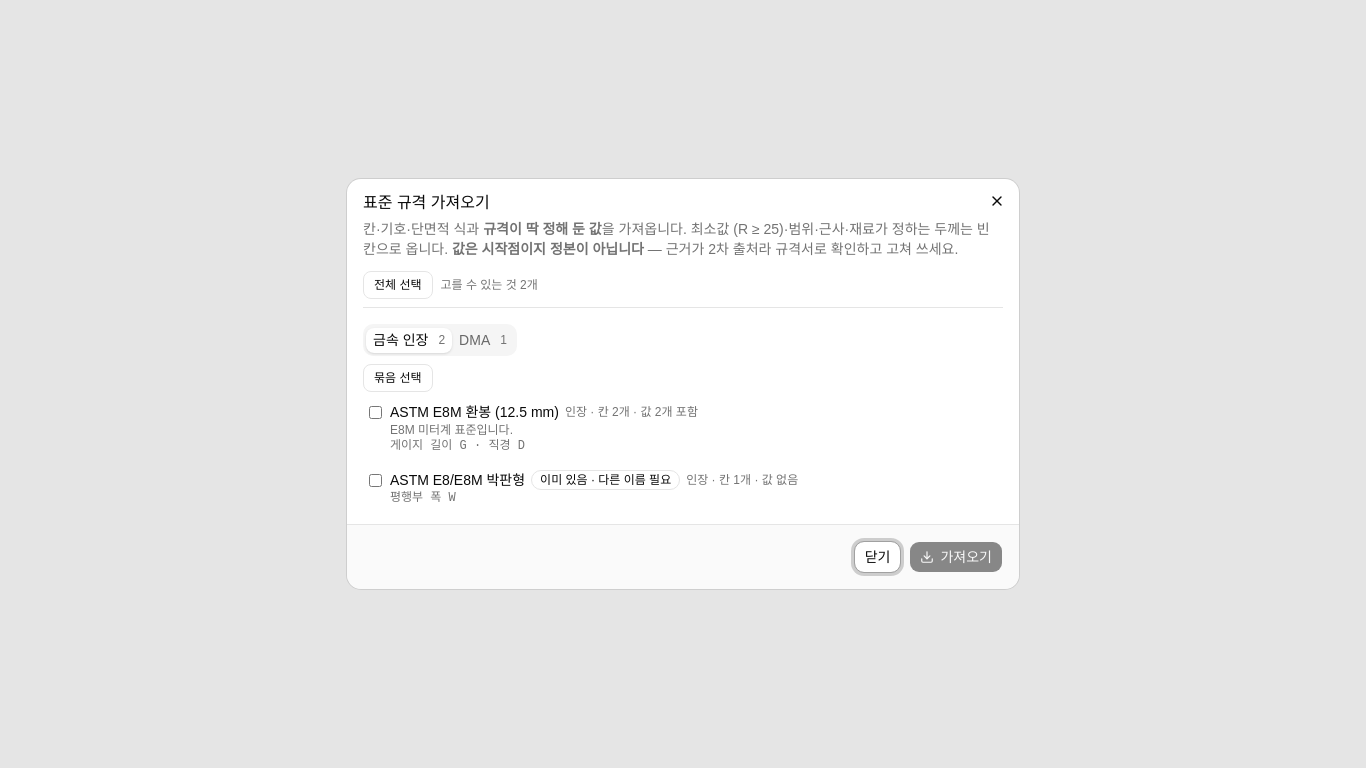
Test: 표준 규격 가져오기 › 한 번 더 누르면 그 묶음이 풀린다
What coordinates should you click on to do the following:
click the button with aria-label "금속 인장 묶음 선택"
I would click on:
 (398, 378)
Its box is [363,364,432,392].
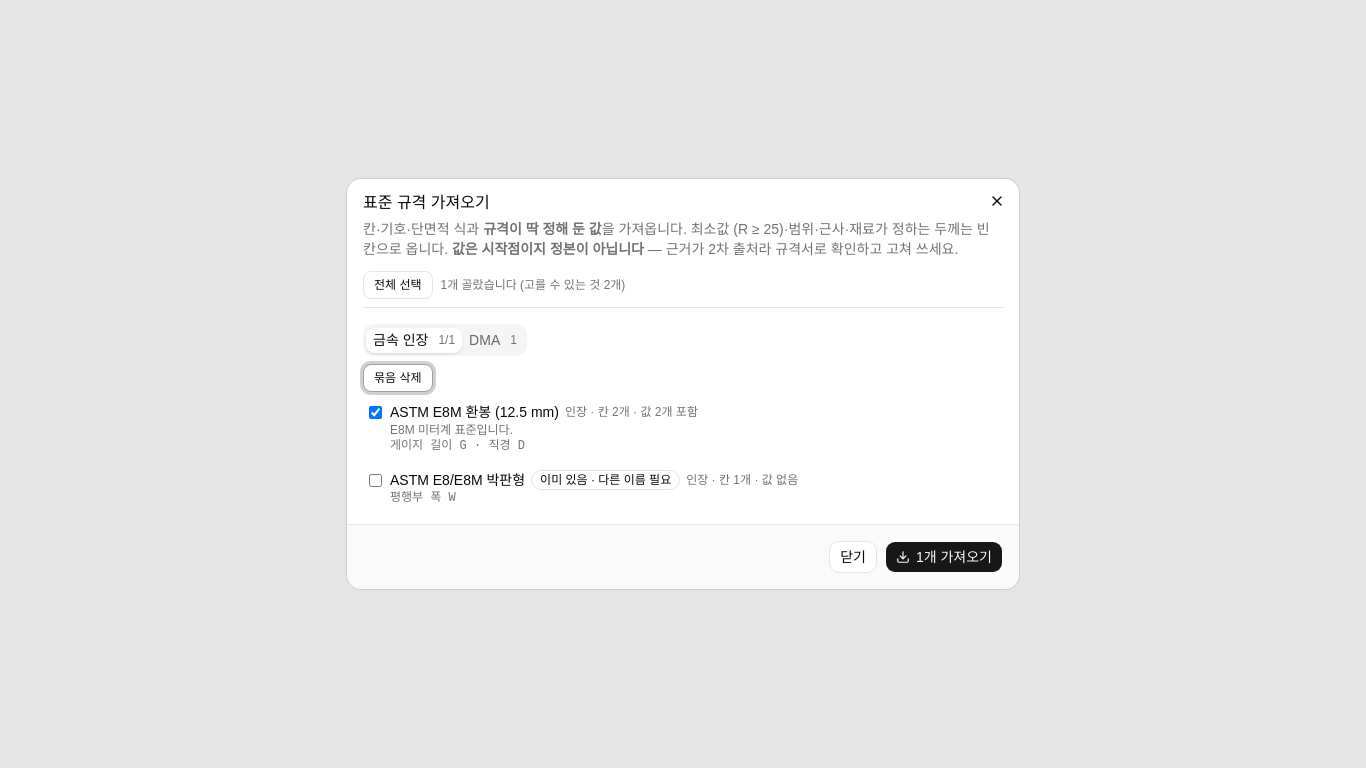
What coordinates should you click on to do the following:
click the button with aria-label "금속 인장 묶음 삭제"
I would click on:
 (398, 378)
Its box is [363,364,432,392].
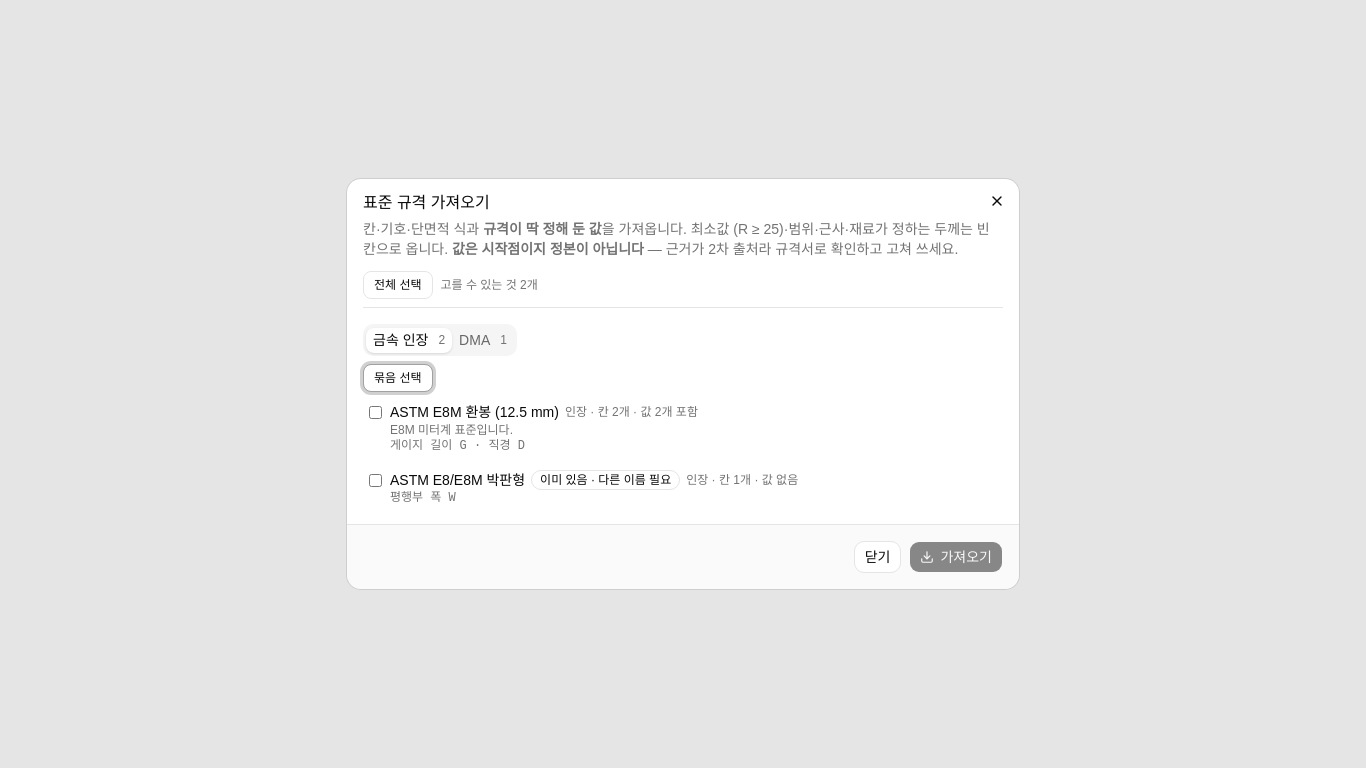
Result: the button "가져오기" is disabled at [910,541,1003,573]
